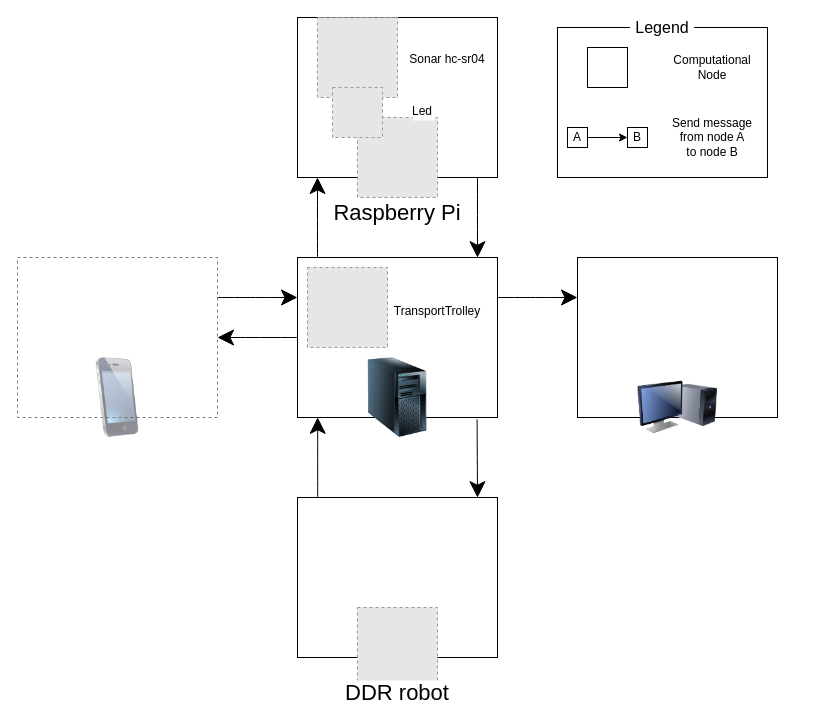
This 813x723 diagram has some shape labels left out. Grey dashed boxes stand in for pictures. The centre of each missing label's shape, as x and y in pixels:
"SmartDevice" belongs at pixel 117 397.
"WasteService" belongs at pixel 397 397.
"WasteServiceStatusGUI" belongs at pixel 677 407.
